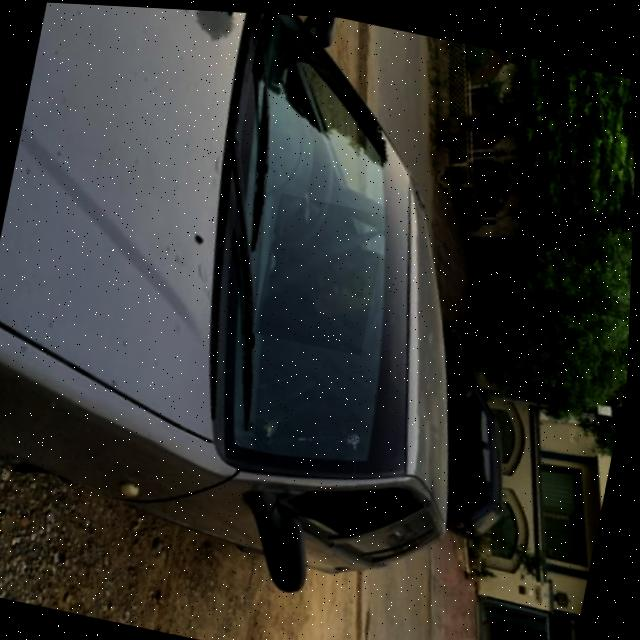seatbelt: (256, 188, 390, 352)
